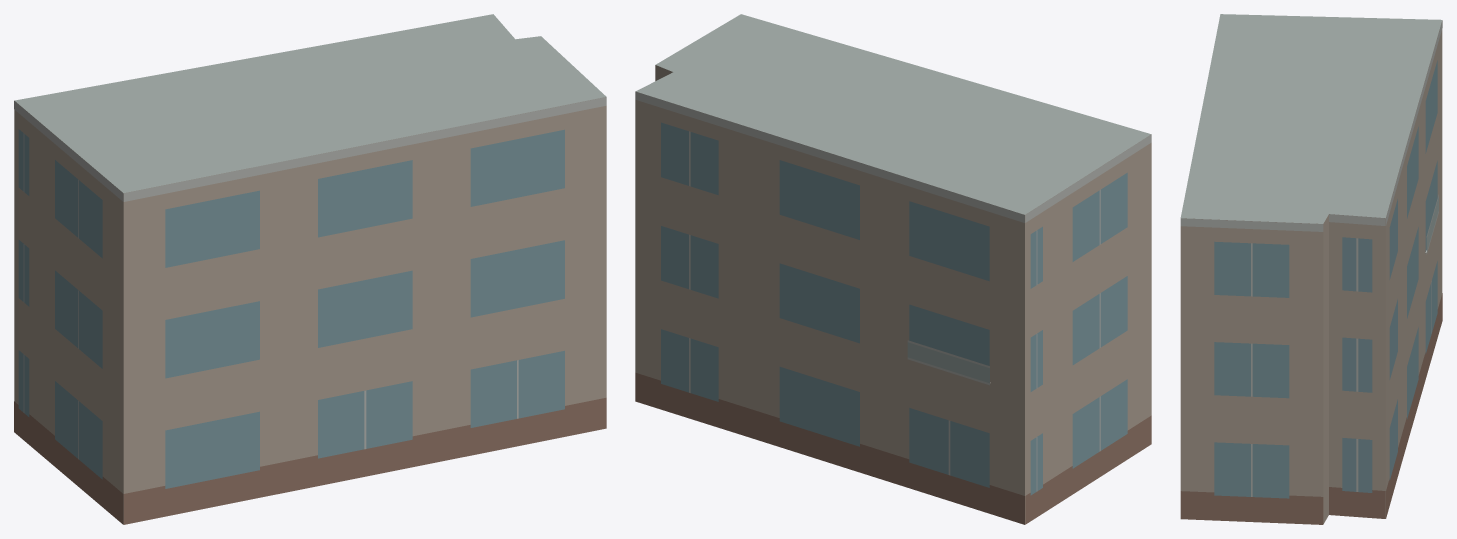
Rendered from survey-upis-33011229.glb.
3 views of the same model, side by side, from view 1: azimuth 30°, elevation 25°; view 2: azimuth 150°, elevation 25°; view 3: azimuth 270°, elevation 25° (orthographic). The views are drawn at different scales.
Parts seen in each view (by area): view 1: survey-upis-33011229.tmp; view 2: survey-upis-33011229.tmp; view 3: survey-upis-33011229.tmp.
Boxes of the visible parts, x1=… form: survey-upis-33011229.tmp: x1=14, y1=14, x2=606, y2=524; survey-upis-33011229.tmp: x1=635, y1=14, x2=1151, y2=524; survey-upis-33011229.tmp: x1=1180, y1=14, x2=1442, y2=524.
Size of the model in its own units: 13.7 by 9.15 by 7.23.
